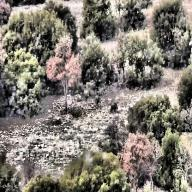boar: (81, 88, 91, 100), (110, 100, 119, 113)
